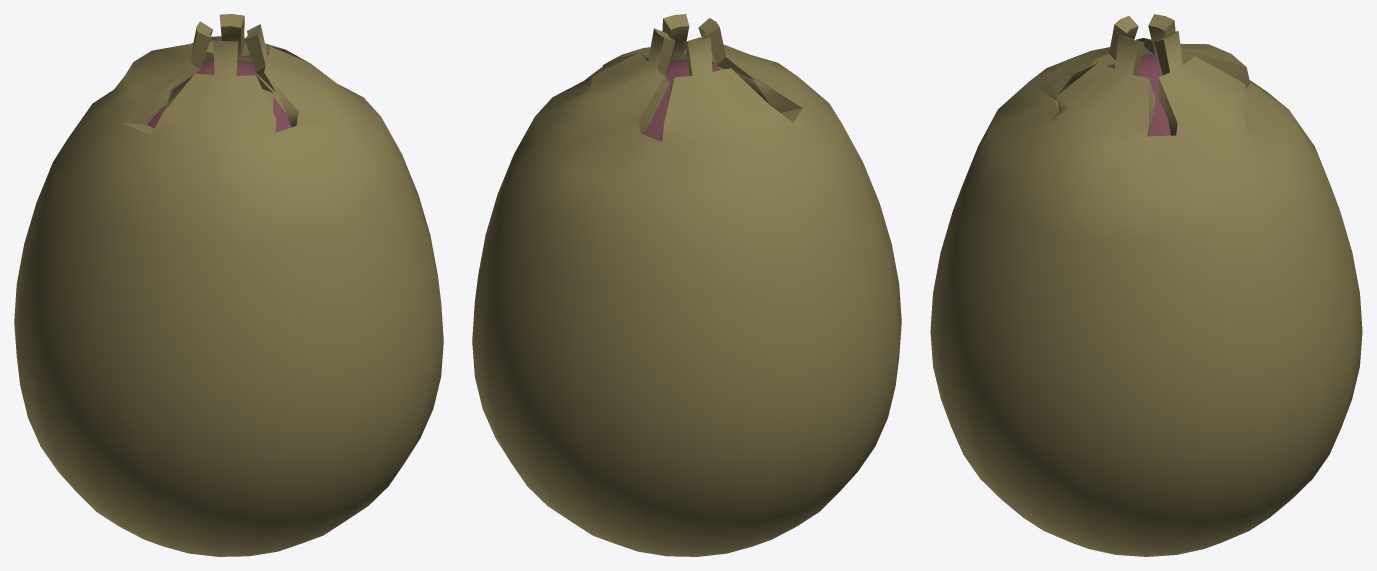
The model's file is Alien Egg Closed.fbx.
The picture shows the model from 3 angles, left to right: view 1: azimuth 30°, elevation 25°; view 2: azimuth 150°, elevation 25°; view 3: azimuth 270°, elevation 25°; orthographic projection.
Parts seen in each view (by area): view 1: pSphere2; view 2: pSphere2; view 3: pSphere2.
Boxes of the visible parts, x1,y1,x2,y2 form: pSphere2: (14, 14, 443, 556); pSphere2: (472, 14, 901, 556); pSphere2: (930, 14, 1362, 556).
Bounding box in the file's own units: 4.27 × 5.56 × 4.27.
